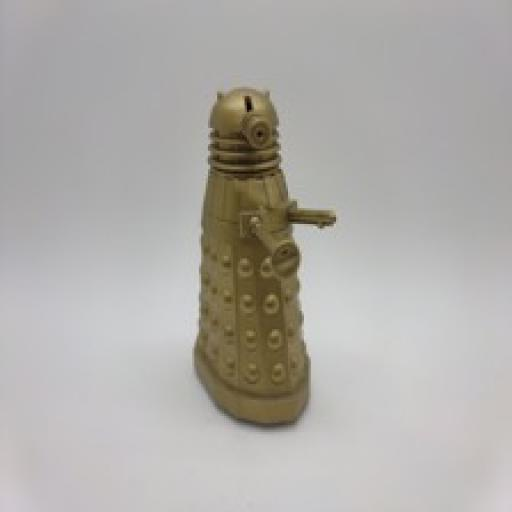dalek: (170, 80, 342, 437)
